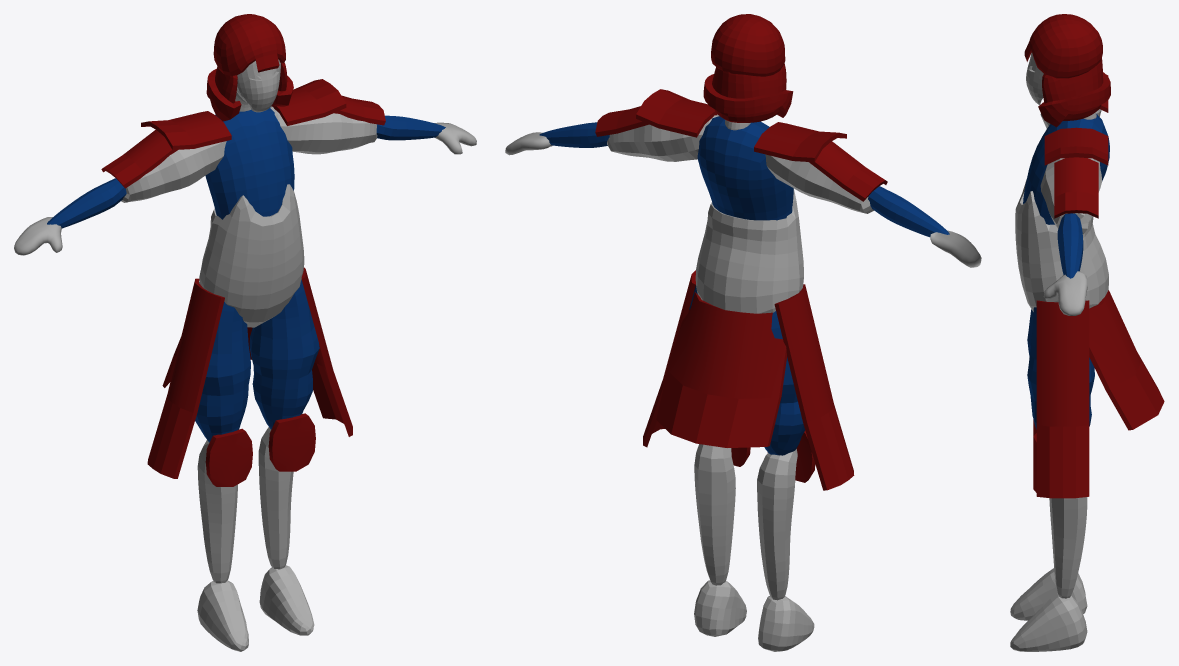
Rendered from Samurai_v3.FBX.
3 renders of one model, left to right at view 1: azimuth 30°, elevation 25°; view 2: azimuth 150°, elevation 25°; view 3: azimuth 270°, elevation 25°, orthographic. The views are drawn at different scales.
Visible parts, largest first — view 1: Samurai:Group60116; view 2: Samurai:Group60116; view 3: Samurai:Group60116.
Boxes of the visible parts, <box> form: Samurai:Group60116: <box>14,14,476,651</box>; Samurai:Group60116: <box>505,14,981,651</box>; Samurai:Group60116: <box>1010,14,1164,651</box>.
Size of the model in its own units: 59.65 by 75.61 by 17.13.
